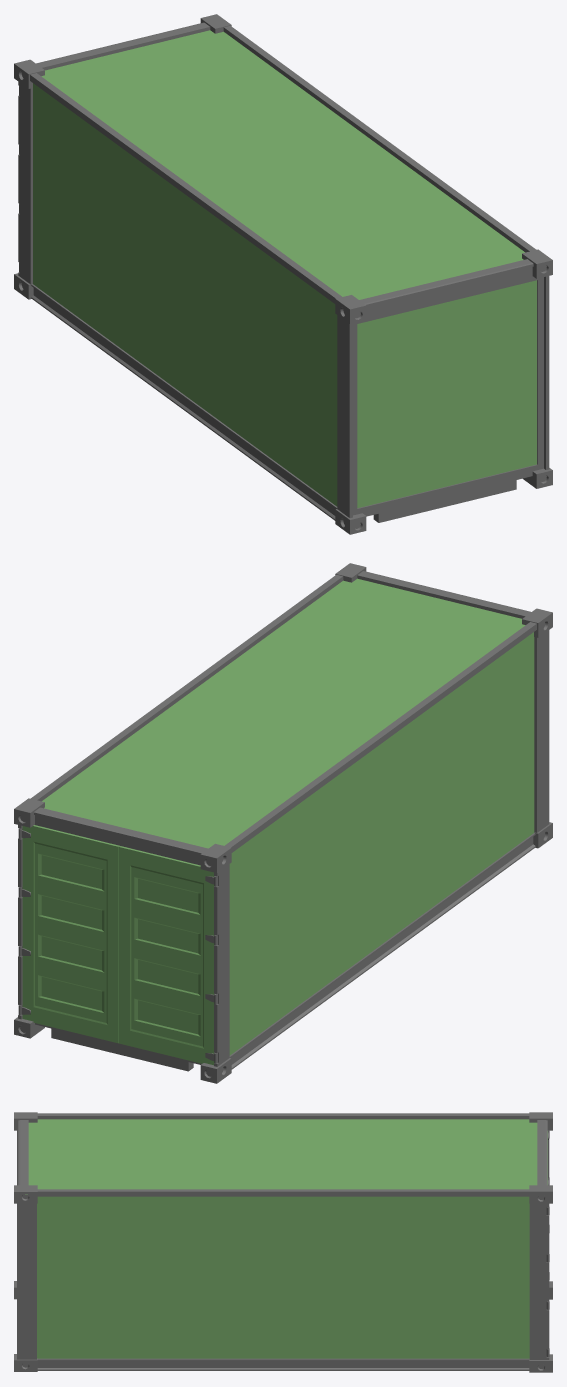
The model's file is SM_Container_02.fbx.
3 views of the same model, one above another, from view 1: azimuth 30°, elevation 25°; view 2: azimuth 150°, elevation 25°; view 3: azimuth 270°, elevation 25° (orthographic). The views are drawn at different scales.
Parts seen in each view (by area): view 1: SM_Container_02; view 2: SM_Container_02; view 3: SM_Container_02.
Boxes of the visible parts, x1,y1,x2,y2 form: SM_Container_02: [14, 14, 552, 534]; SM_Container_02: [14, 563, 552, 1083]; SM_Container_02: [14, 1112, 552, 1372].
Size of the model in its own units: 241 by 256 by 692.
2 materials, 2 textured.
